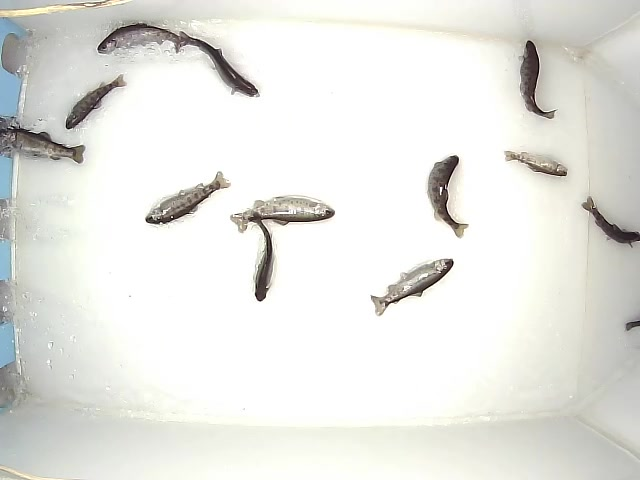fish: (178, 29, 261, 99), (369, 258, 455, 317), (143, 170, 232, 226), (229, 194, 337, 234), (426, 154, 470, 239), (64, 73, 127, 130), (517, 39, 559, 121), (1, 126, 86, 166), (580, 195, 640, 248), (95, 21, 183, 55), (248, 212, 274, 302), (502, 149, 569, 178)
